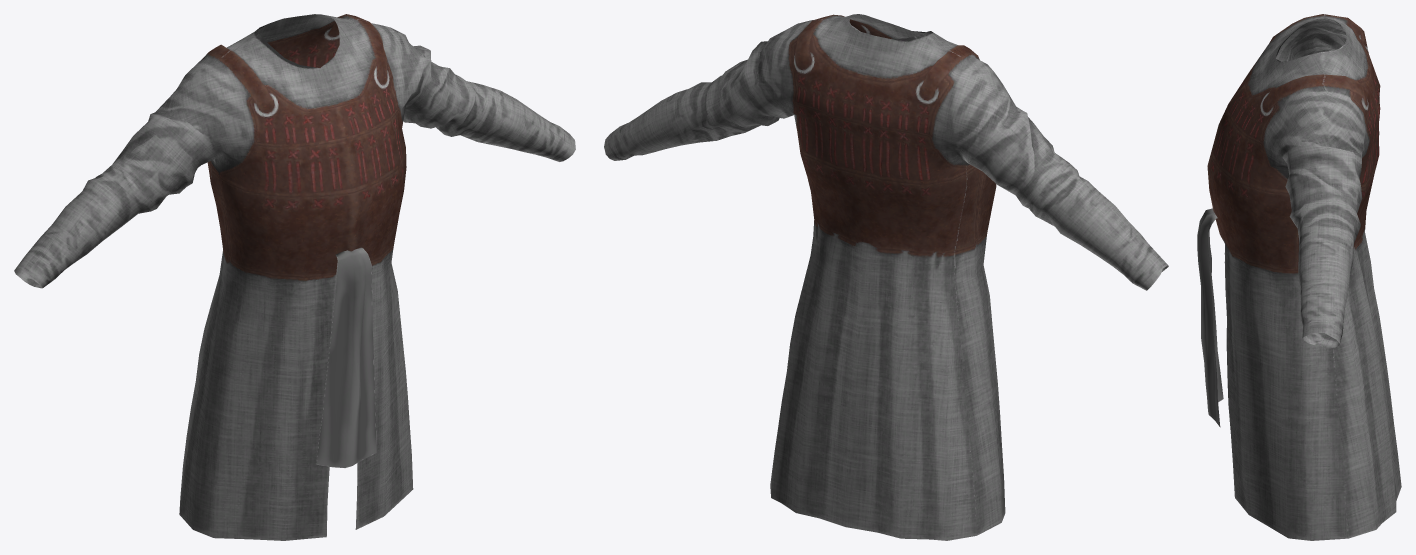
Rendered from clo_easterling02_v1_torso.fbx.
3 views of the same model, side by side, from view 1: azimuth 30°, elevation 25°; view 2: azimuth 150°, elevation 25°; view 3: azimuth 270°, elevation 25° (orthographic). The views are drawn at different scales.
Parts seen in each view (by area): view 1: clo_easterling02_v1_torso; view 2: clo_easterling02_v1_torso; view 3: clo_easterling02_v1_torso.
Boxes of the visible parts, <box> form: clo_easterling02_v1_torso: <box>14,14,575,540</box>; clo_easterling02_v1_torso: <box>604,14,1168,540</box>; clo_easterling02_v1_torso: <box>1197,14,1401,540</box>.
Size of the model in its own units: 1.33 by 0.4424 by 1.09.
1 material, 1 textured.
